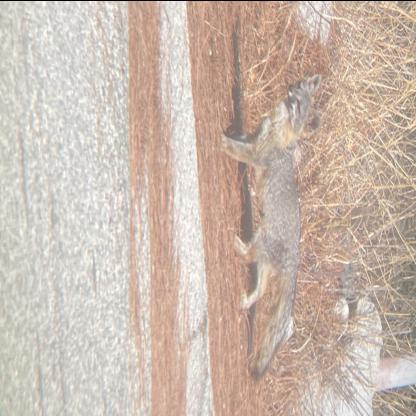zorro: (216, 64, 324, 388)
